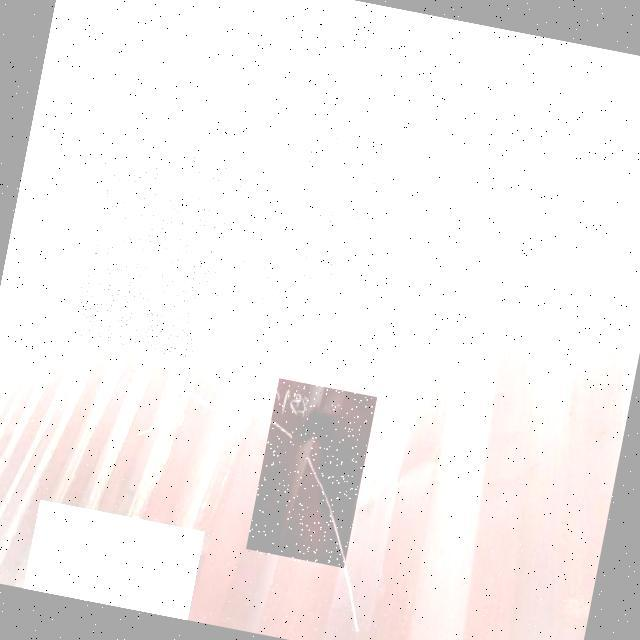Dent: (198, 105, 387, 334)
Minor-Dent: (72, 141, 232, 360), (246, 379, 378, 571)
